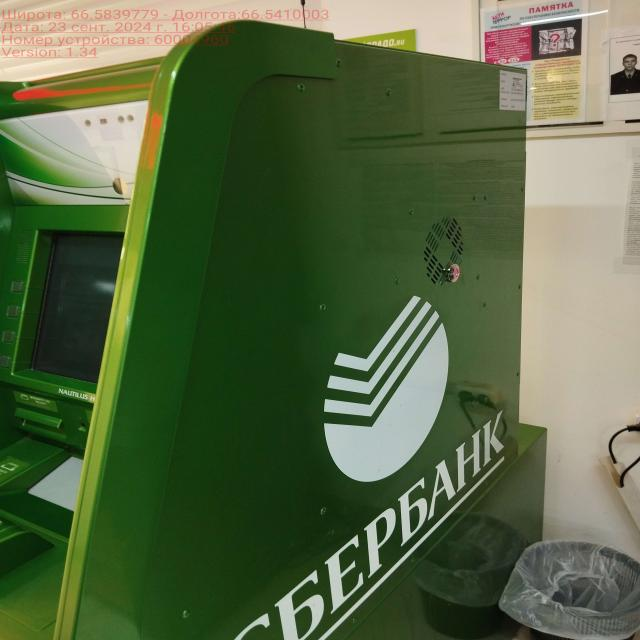bank: (0, 19, 536, 640)
